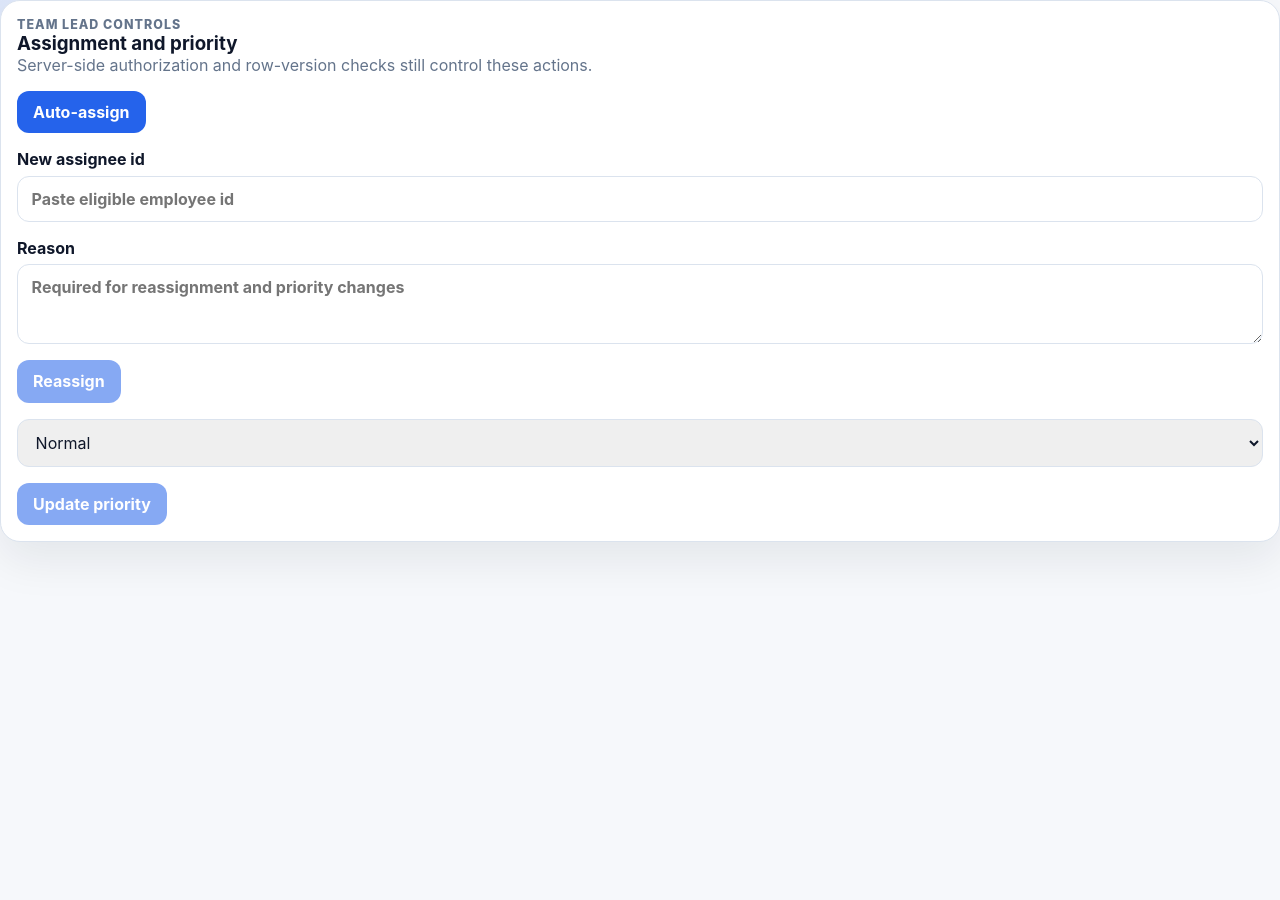
Test: TeamAssignmentPanel › shows concurrency guidance for stale priority updates
In the text box labelled "Reason": (640, 304) [17,264,1263,344], type "Escalate."
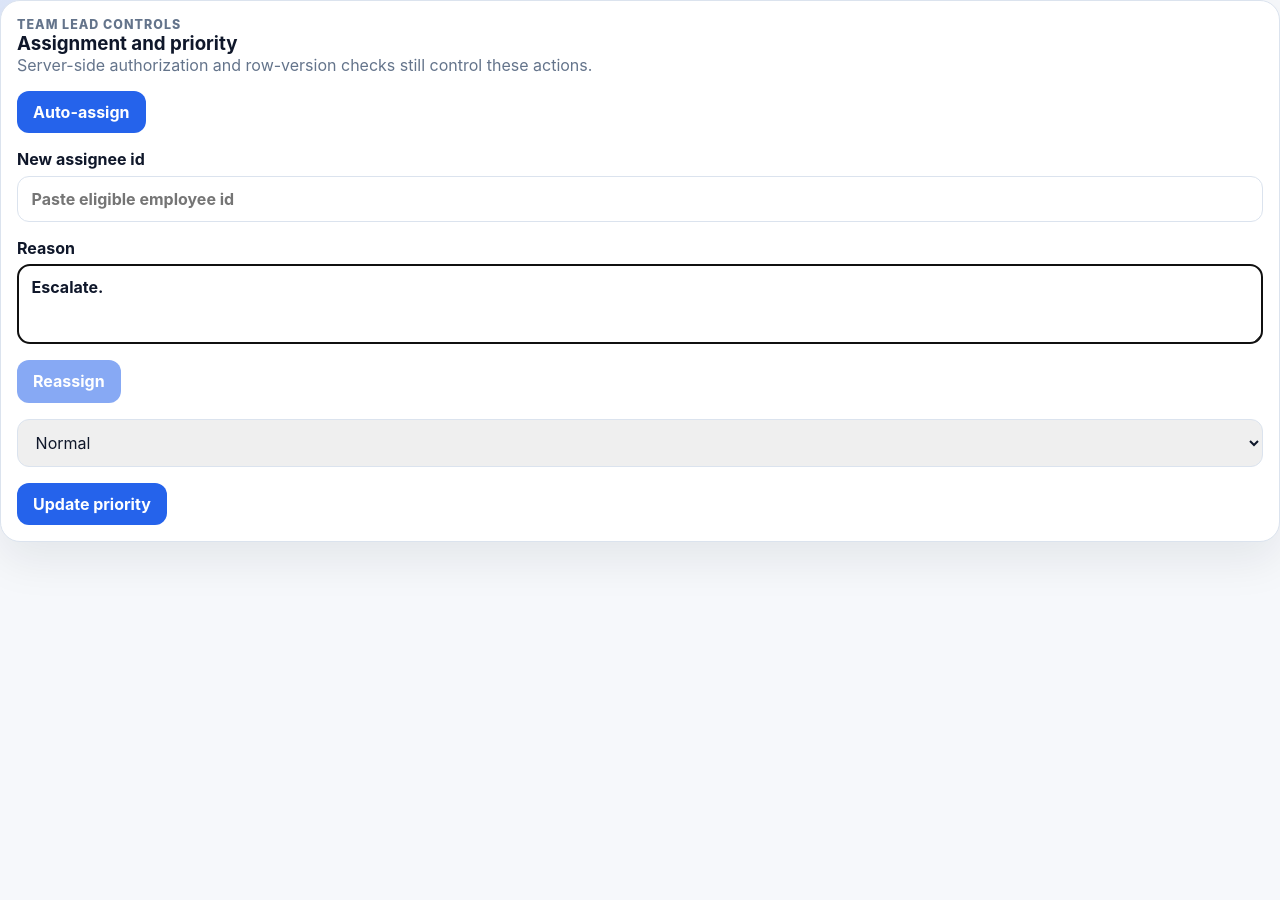
Click the button "Update priority": (92, 504) [17,482,167,525]
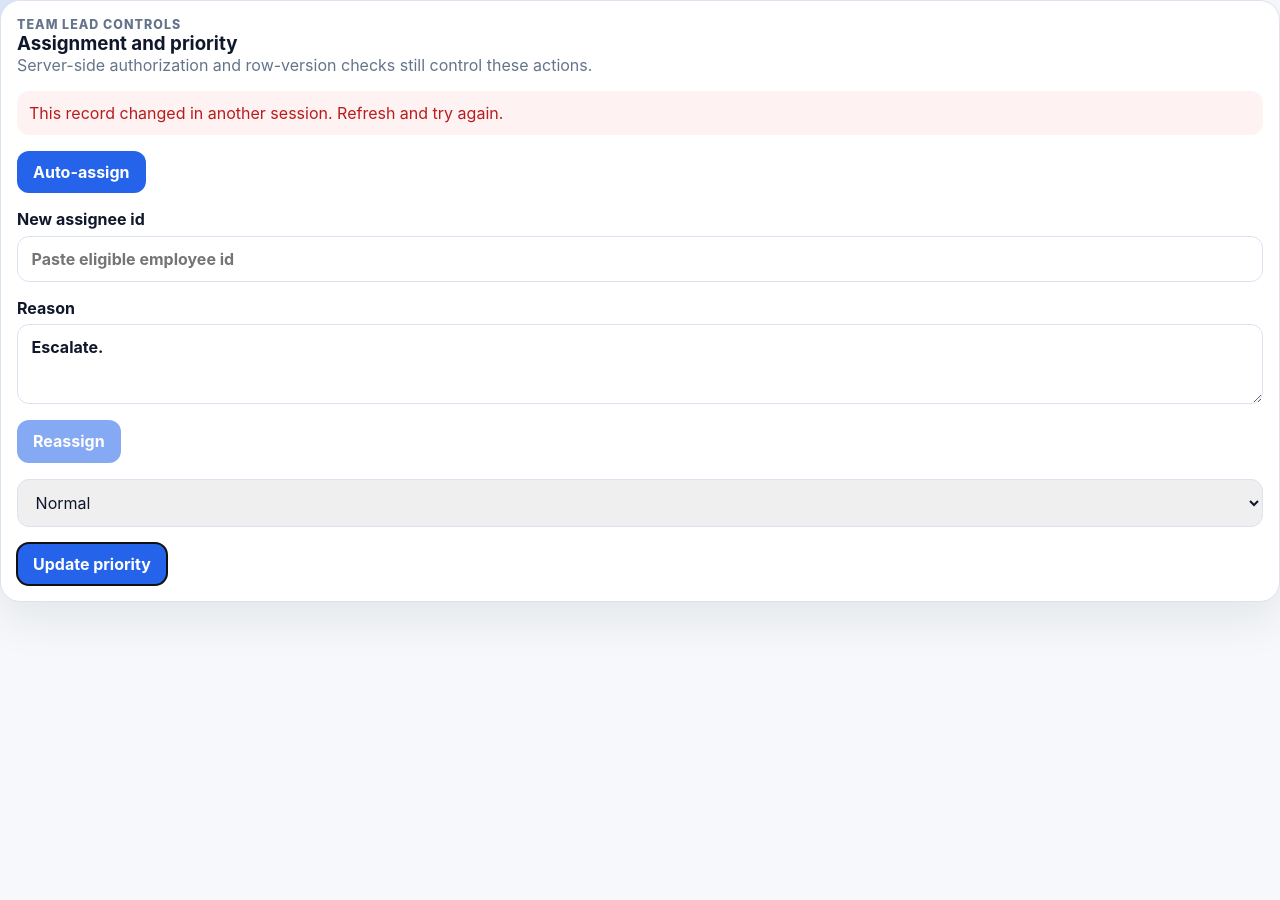
Now the text "This record changed in another session. Refresh and try again." is shown, box [17,91,1263,135]
